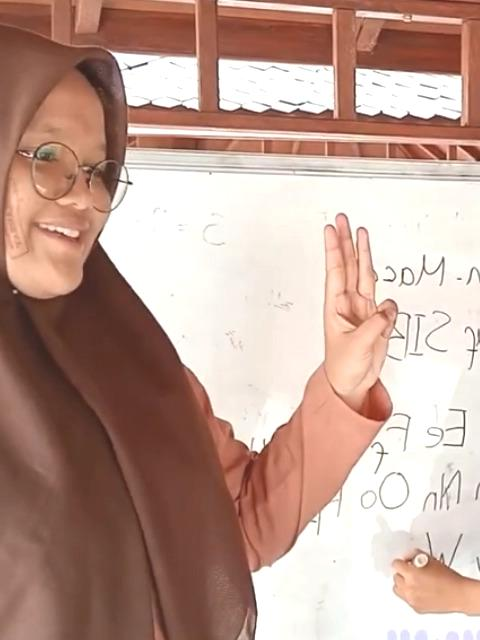W: (319, 208, 403, 388)
